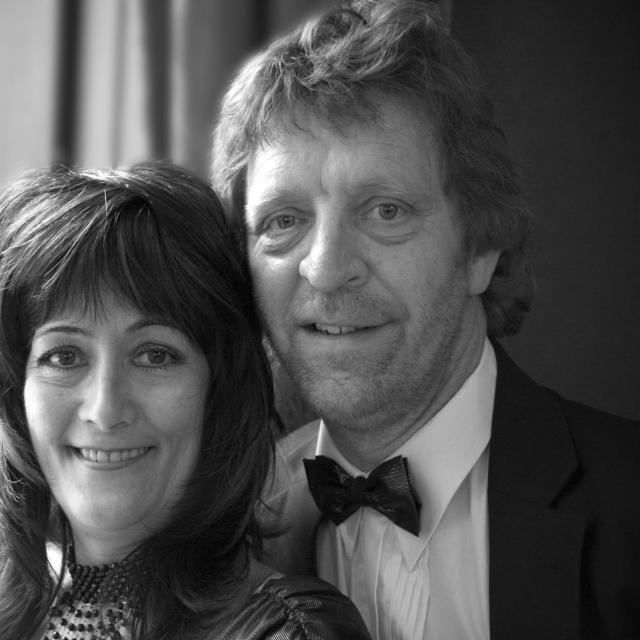no-glass: (260, 198, 417, 242), (34, 341, 186, 373)
